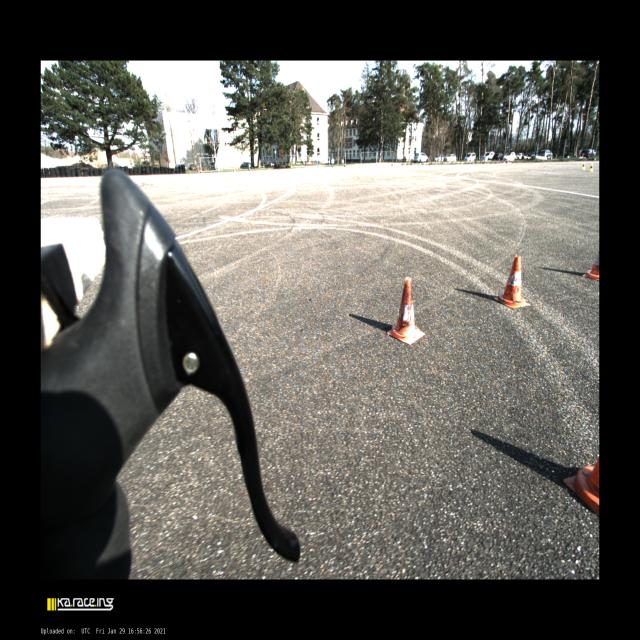orange_cone: (387, 277, 425, 345), (563, 457, 599, 516), (494, 256, 530, 308), (583, 250, 599, 280)
yellow_cone: (589, 163, 593, 172), (582, 162, 586, 170)
